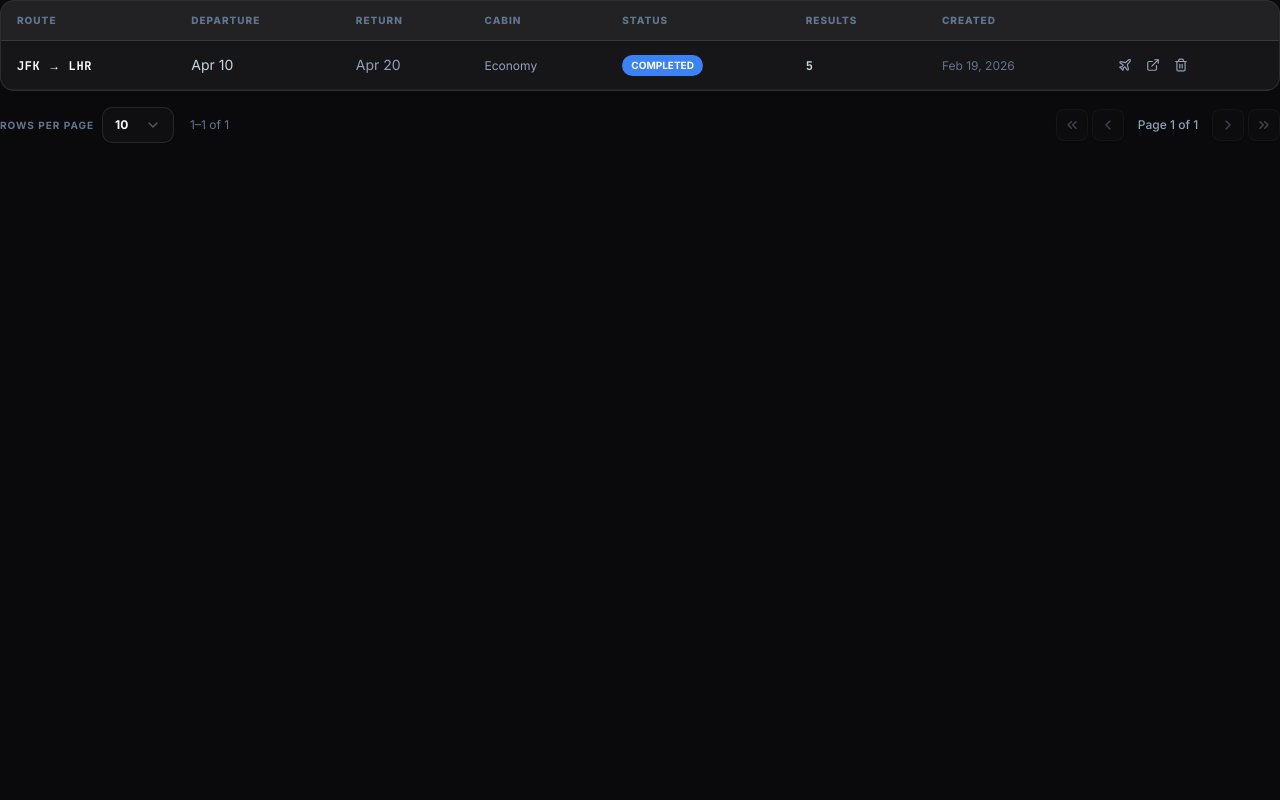
Test case: ExecutionsTable › shows confirmation dialog when delete button is clicked
This screenshot has width=1280, height=800.
Click the button titled "Delete". click: x=1181, y=65
box: [1169, 53, 1193, 77]
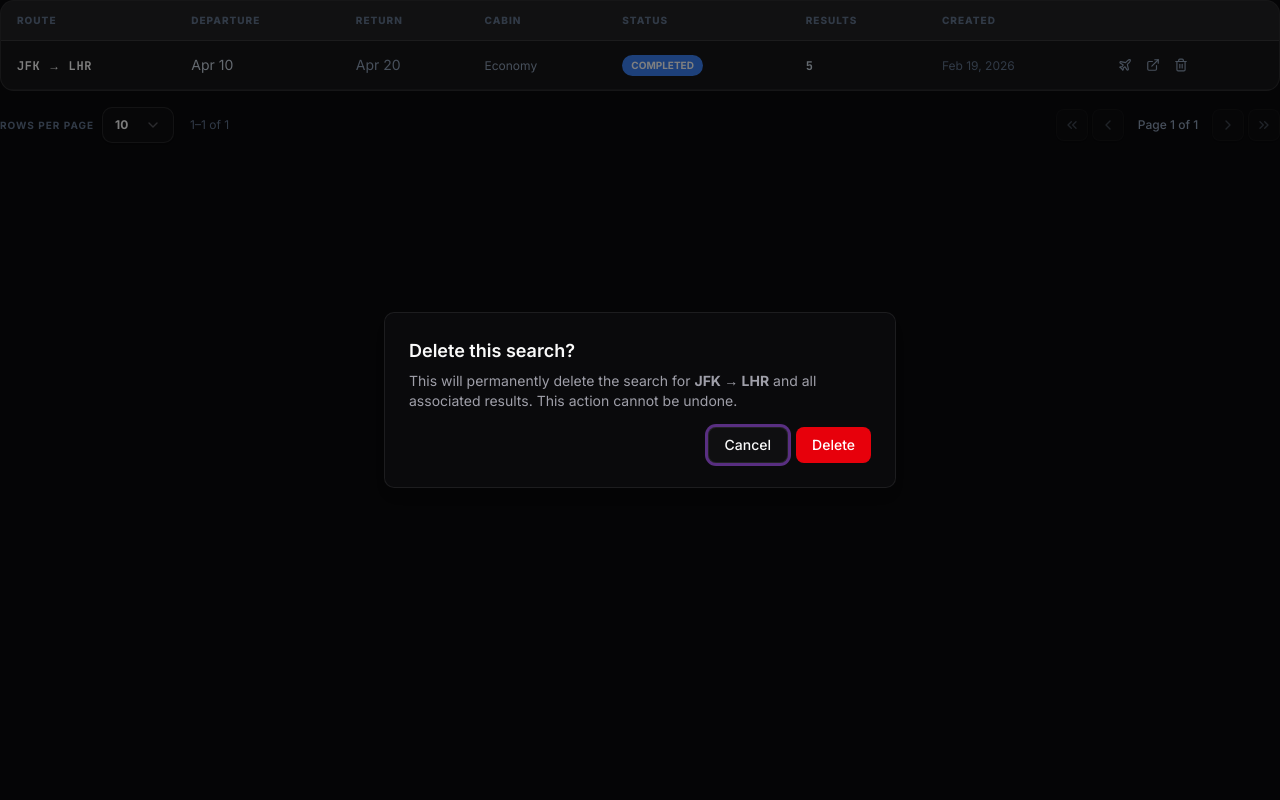
Result: the heading "Delete this search?" is shown at [409, 337, 575, 365]
Result: the text "permanently delete the search" is shown at [409, 372, 690, 389]
Result: the text "JFK → LHR" is shown at [694, 372, 769, 389]
